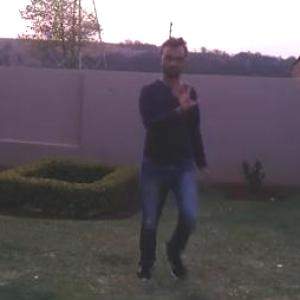follow_hand: (165, 76, 201, 112)
